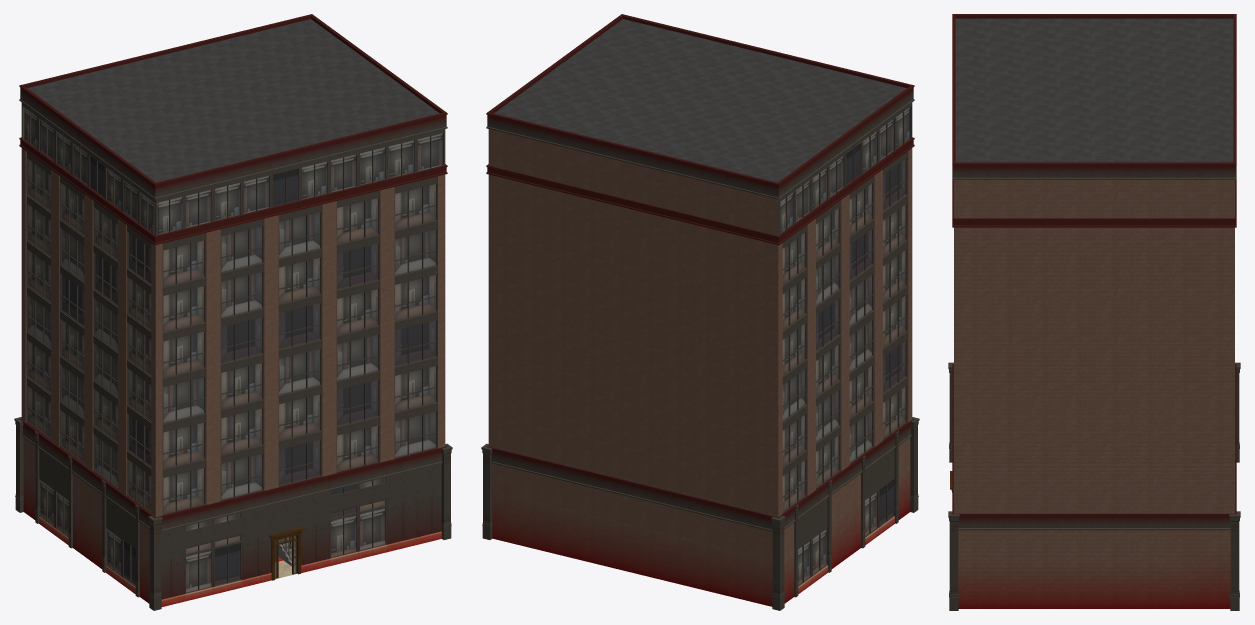
The model's file is city.gltf.
The picture shows the model from 3 angles, left to right: view 1: azimuth 30°, elevation 25°; view 2: azimuth 150°, elevation 25°; view 3: azimuth 270°, elevation 25°; orthographic projection. The views are drawn at different scales.
Parts seen in each view (by area): view 1: Building_Large_2; view 2: Building_Large_2; view 3: Building_Large_2.
Boxes of the visible parts, x1,y1,x2,y2 form: Building_Large_2: (14, 14, 452, 610); Building_Large_2: (481, 14, 919, 610); Building_Large_2: (948, 14, 1240, 610).
Size of the model in its own units: 20.64 by 28 by 16.64.
Materials: 12 (11 with a texture image).
